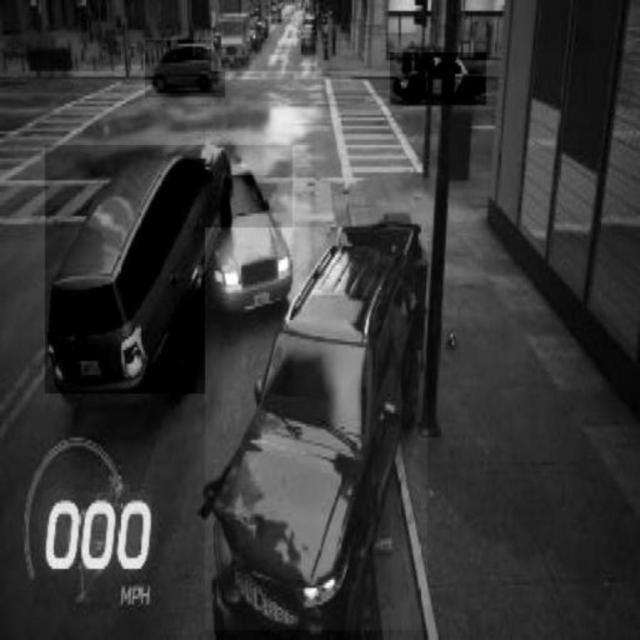accident: (45, 146, 293, 394)
vehicle: (205, 228, 429, 631), (390, 53, 486, 105), (145, 41, 225, 98), (211, 13, 255, 71)
